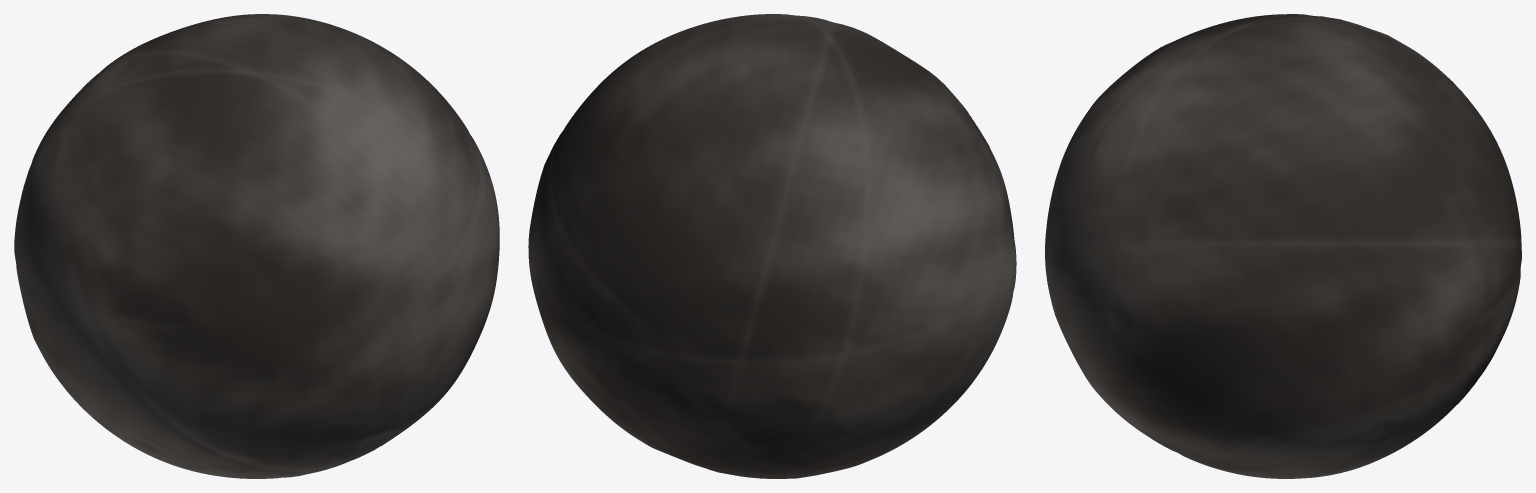
File: dysnomia.glb
3 views of the same model, side by side, from view 1: azimuth 30°, elevation 25°; view 2: azimuth 150°, elevation 25°; view 3: azimuth 270°, elevation 25° (orthographic).
Parts seen in each view (by area): view 1: dysnomia_body; view 2: dysnomia_body; view 3: dysnomia_body.
Part boxes in pixels (x1,y1,x2,y2): dysnomia_body: (14,14,499,478); dysnomia_body: (528,14,1016,478); dysnomia_body: (1045,14,1521,478).
Bounding box in the file's own units: 2.04 × 1.92 × 1.99.
1 material, 1 textured.
